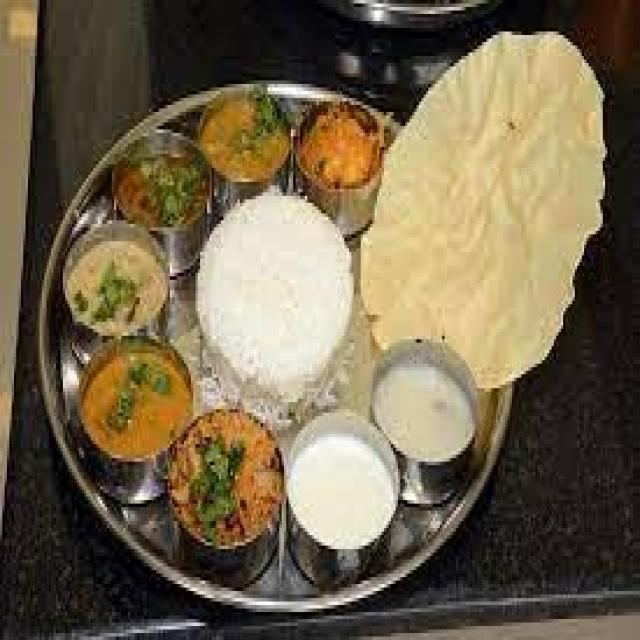dal: (64, 341, 189, 479), (57, 219, 172, 337)
papad: (368, 47, 609, 342), (195, 183, 351, 400)
rice: (187, 180, 361, 401)
sweet: (367, 342, 491, 479)
